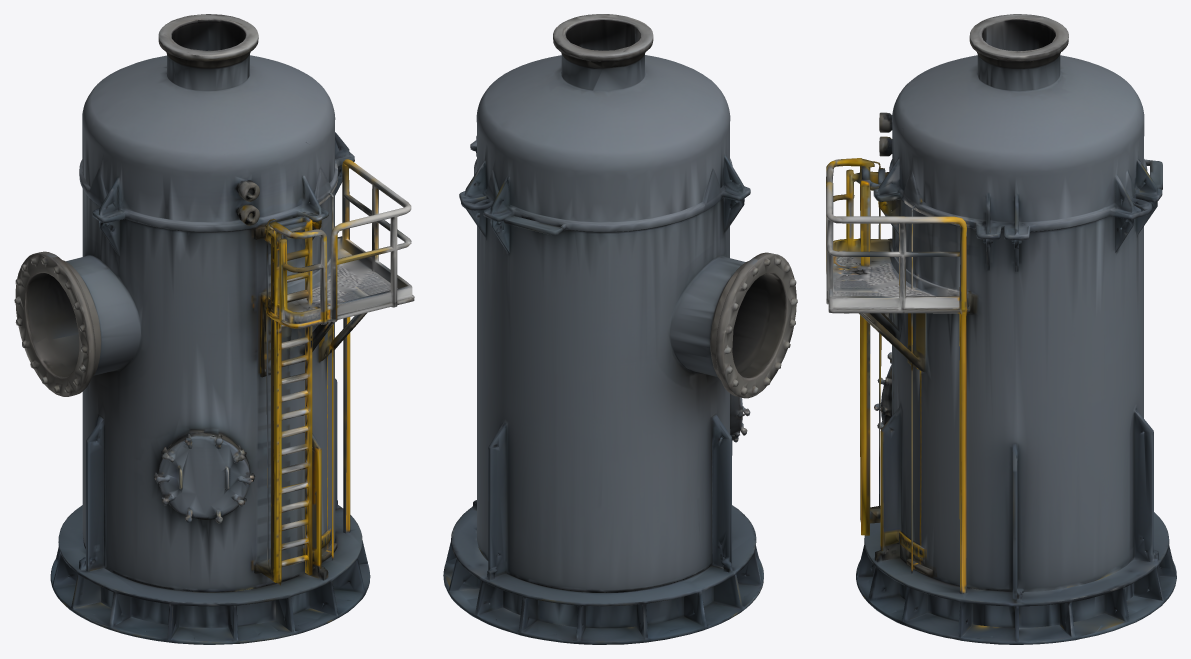
Rendered from scrubber-a.glb.
3 renders of one model, left to right at view 1: azimuth 30°, elevation 25°; view 2: azimuth 150°, elevation 25°; view 3: azimuth 270°, elevation 25°, orthographic.
Parts seen in each view (by area): view 1: node_0; view 2: node_0; view 3: node_0.
Boxes of the visible parts, x1=… form: node_0: x1=14, y1=14, x2=414, y2=644; node_0: x1=443, y1=14, x2=797, y2=644; node_0: x1=826, y1=14, x2=1176, y2=644.
Bounding box in the file's own units: 0.5931 × 1.03 × 0.6024.
1 material, 1 textured.
